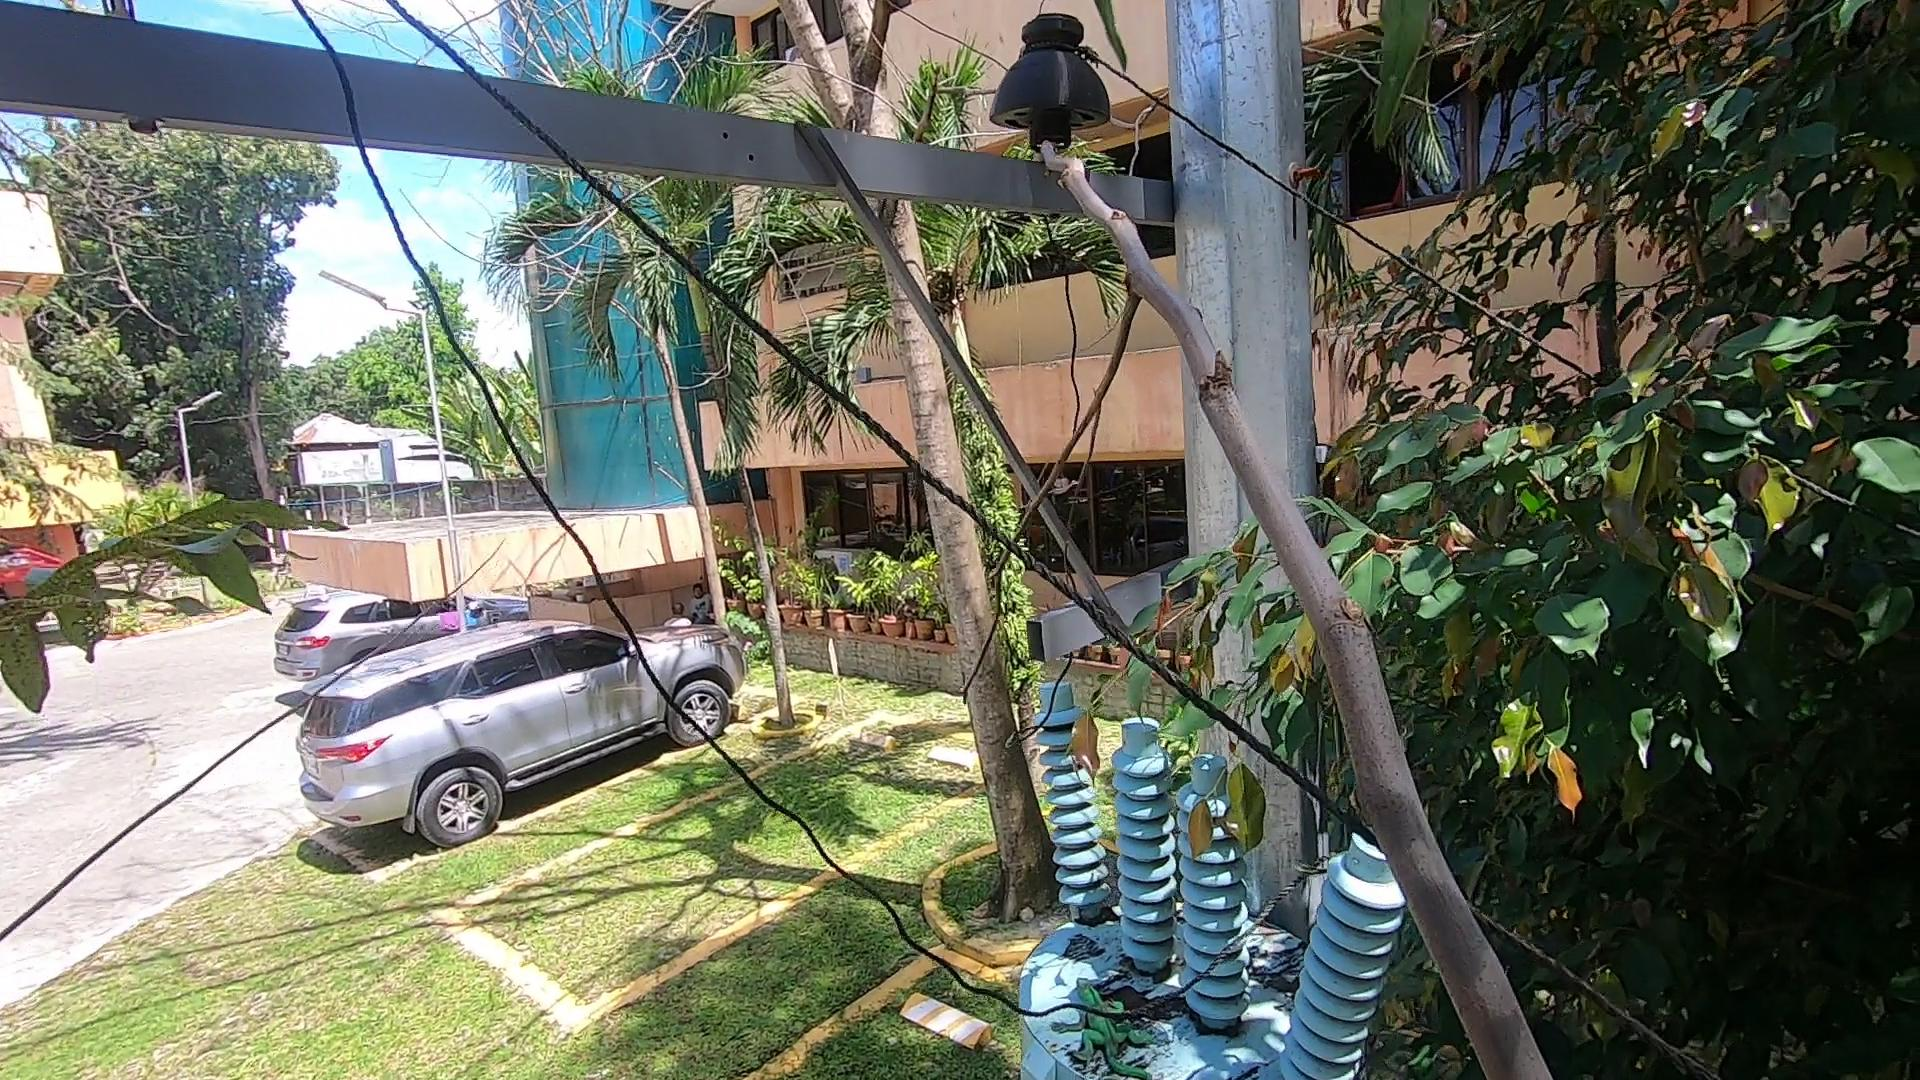branch with leaves: (1098, 502, 1416, 897)
leaf: (1102, 951, 1193, 1015), (1244, 953, 1305, 1004), (1062, 899, 1122, 926)
tree branch: (1000, 103, 1580, 1080)
